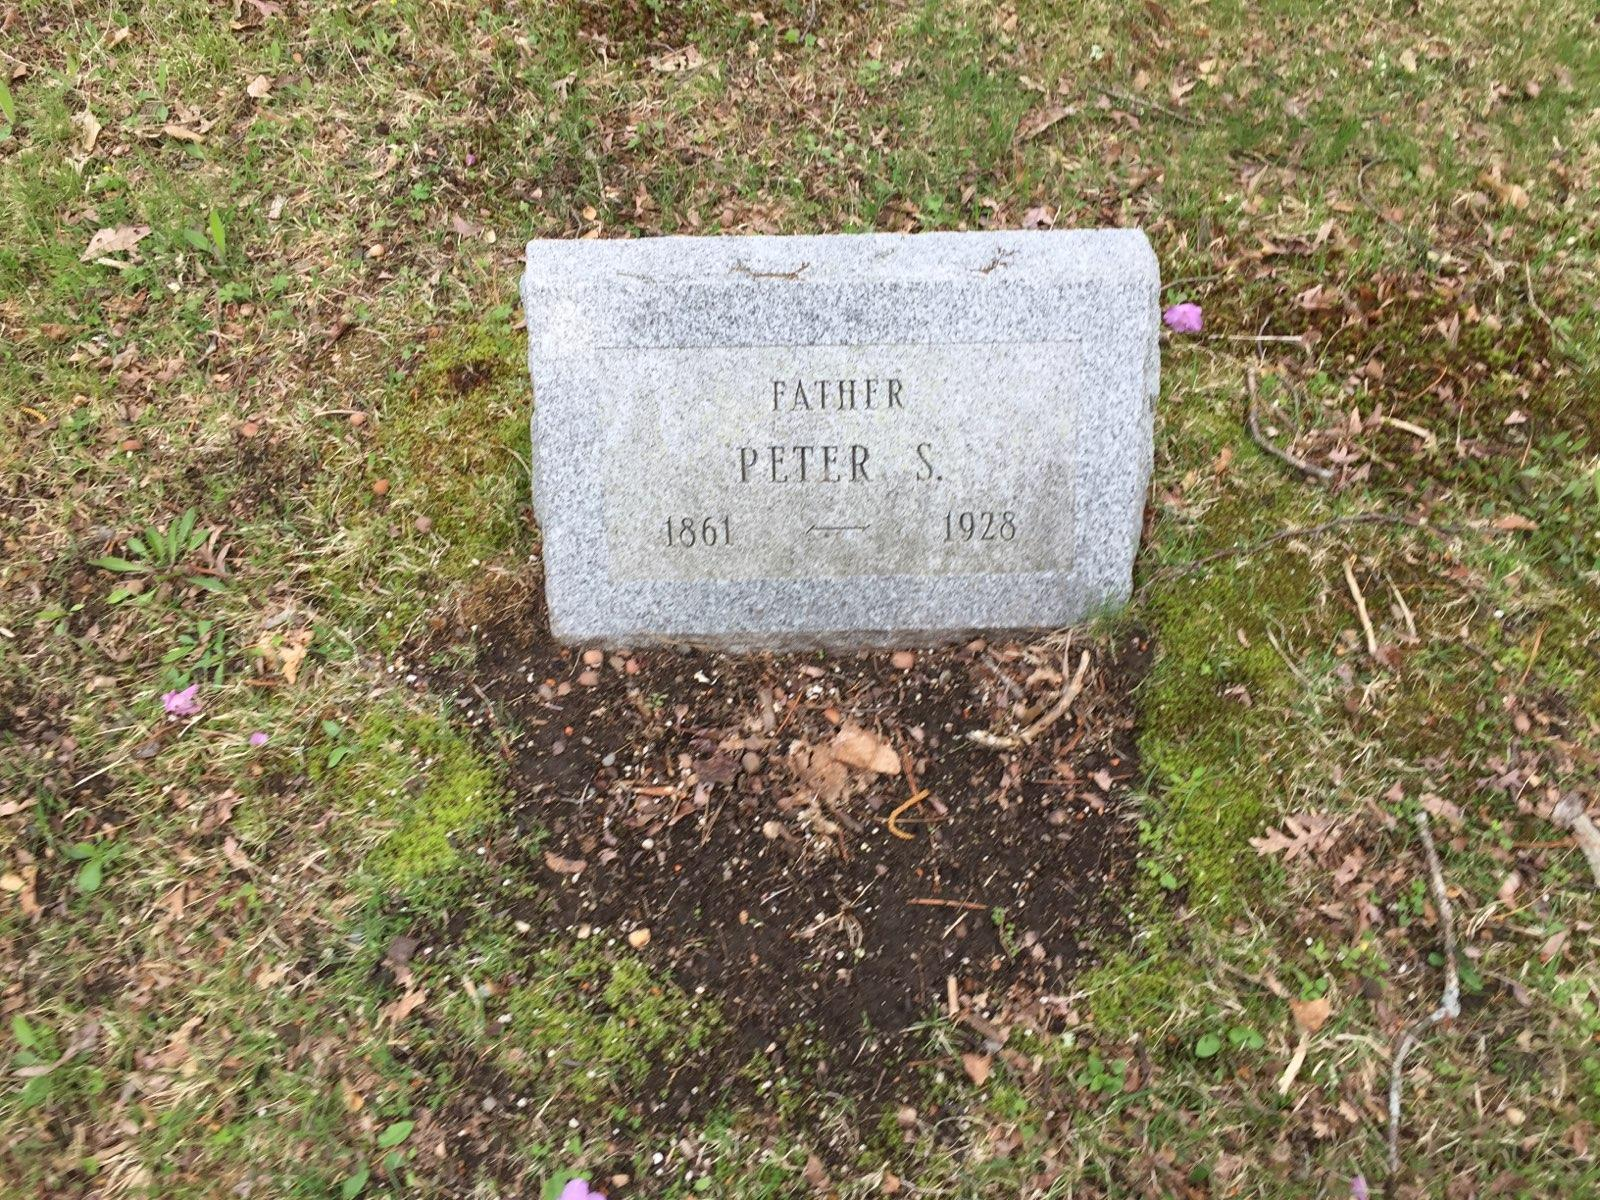slant: (520, 229, 1154, 642)
